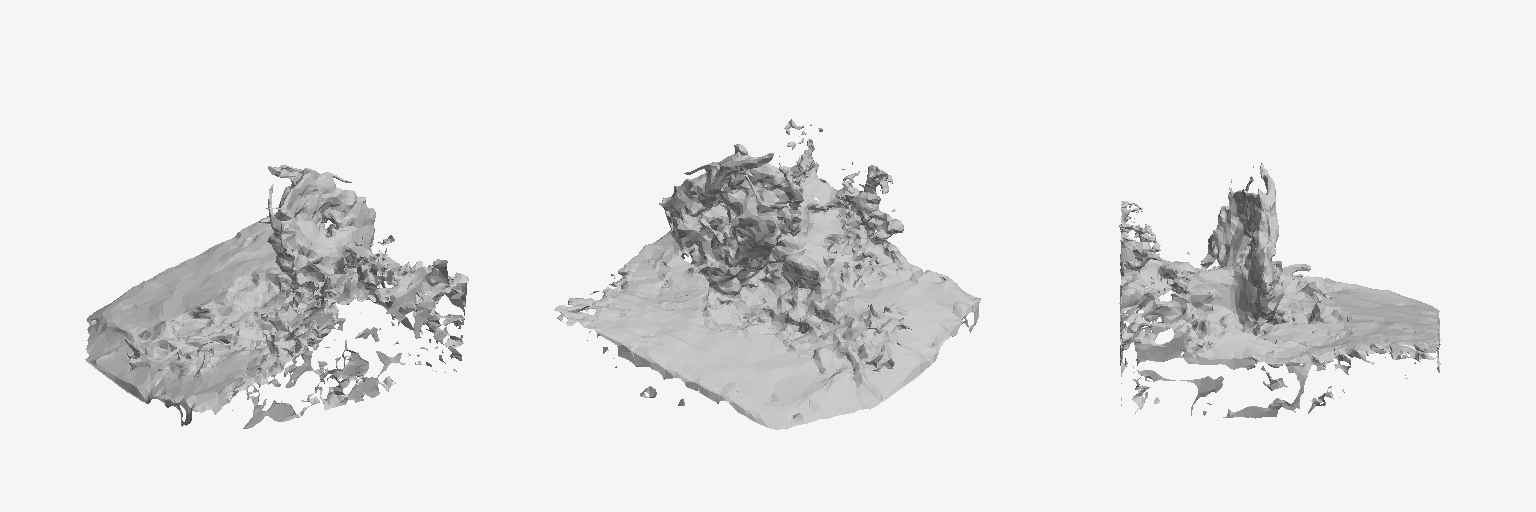
Rendered from fallenTree_lowpoly.obj.
The picture shows the model from 3 angles: view 1: azimuth 30°, elevation 25°; view 2: azimuth 150°, elevation 25°; view 3: azimuth 270°, elevation 25°; orthographic projection.
Size of the model in its own units: 4.07 by 2.66 by 4.05.